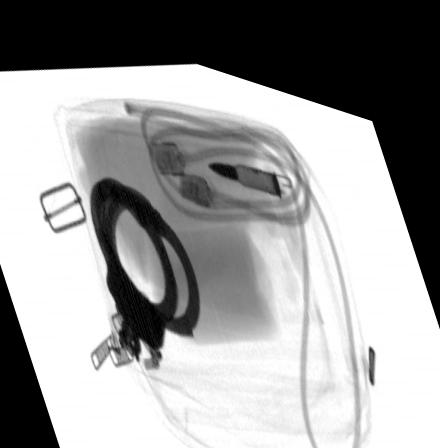Bullet: (202, 143, 283, 179)
HandCuffs: (85, 162, 201, 355)
